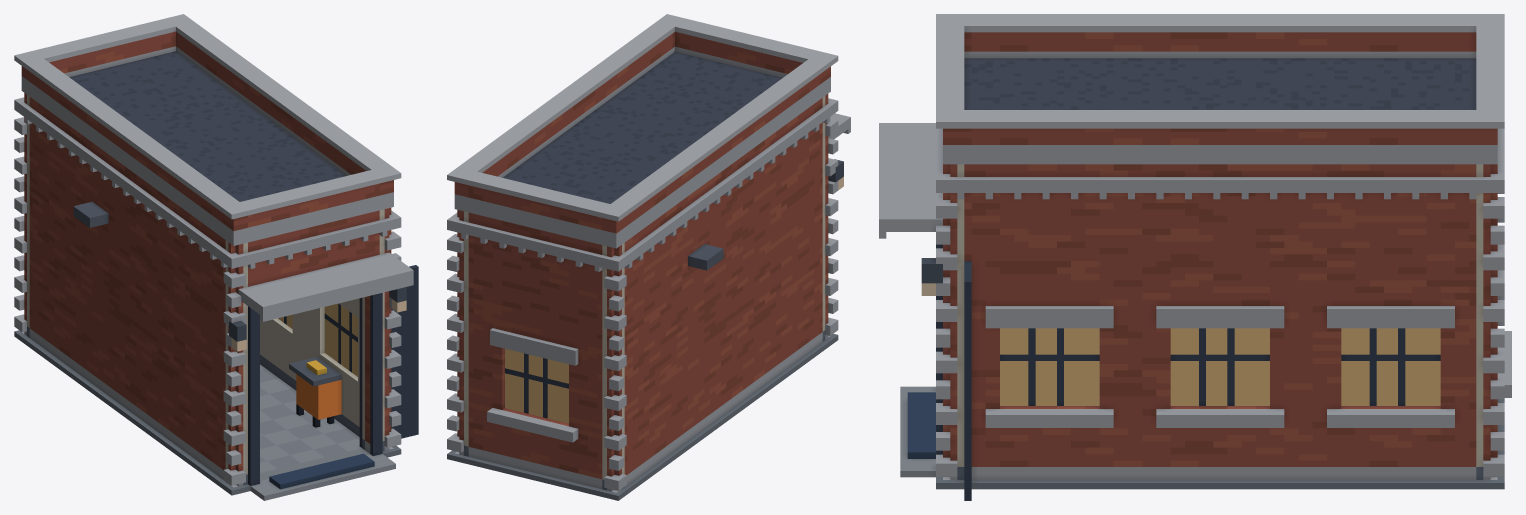
Rendered from factory_e2_l3.glb.
3 views of the same model, side by side, from view 1: azimuth 30°, elevation 25°; view 2: azimuth 150°, elevation 25°; view 3: azimuth 270°, elevation 25° (orthographic). The views are drawn at different scales.
Visible parts, largest first — view 1: CutRoof, CutNX, Base, CutPZ, CutPX, CutNZ; view 2: CutRoof, CutNX, CutNZ, Base, CutPZ; view 3: CutPX, CutRoof, Base, CutPZ, CutNZ.
Boxes of the visible parts, box(x1,y1,x2,y2) form: CutRoof: box(14, 14, 401, 245); CutNX: box(19, 97, 230, 435); Base: box(14, 201, 418, 500); CutPZ: box(223, 207, 418, 446); CutPX: box(260, 210, 395, 392); CutNZ: box(14, 93, 29, 293); CutRoof: box(447, 14, 838, 248); CutNX: box(619, 98, 832, 439); CutNZ: box(447, 210, 626, 450); Base: box(447, 244, 838, 500); CutPZ: box(822, 94, 850, 296); CutPX: box(950, 164, 1490, 427); CutRoof: box(936, 14, 1504, 164); Base: box(900, 386, 1504, 500); CutPZ: box(879, 123, 971, 442); CutNZ: box(1476, 128, 1511, 424).
Size of the model in its own units: 4.5 by 5.7 by 8.9.
